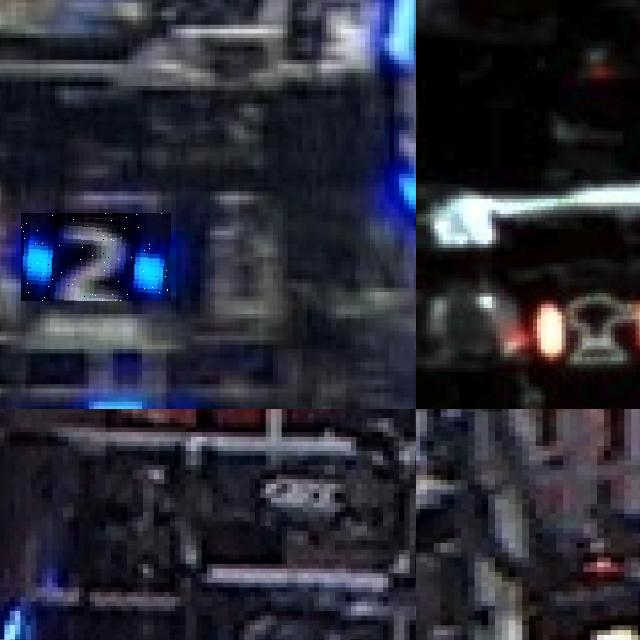B2: (21, 213, 171, 301)
Rs: (537, 296, 640, 364)
